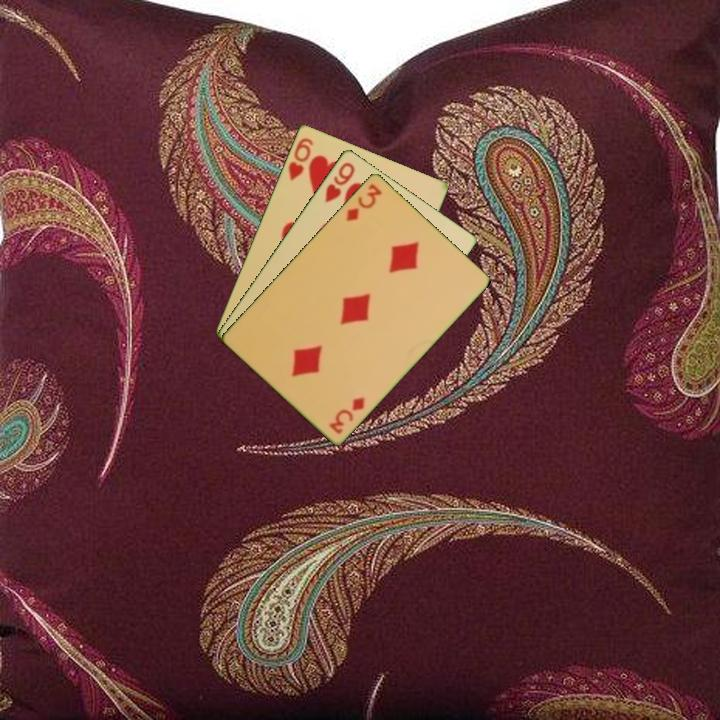3d: (342, 180, 385, 224), (325, 393, 368, 437)
6h: (284, 134, 316, 183)
9h: (321, 158, 358, 205)
